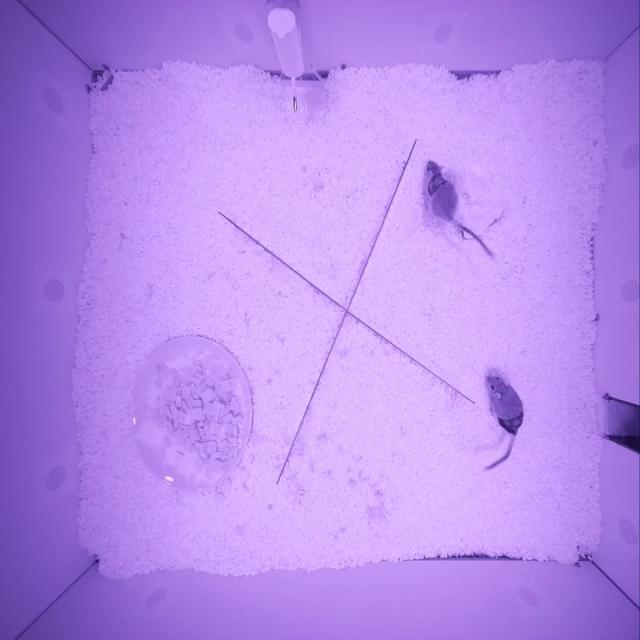adult_back: (486, 375, 524, 436)
adult_front: (425, 161, 459, 222)
